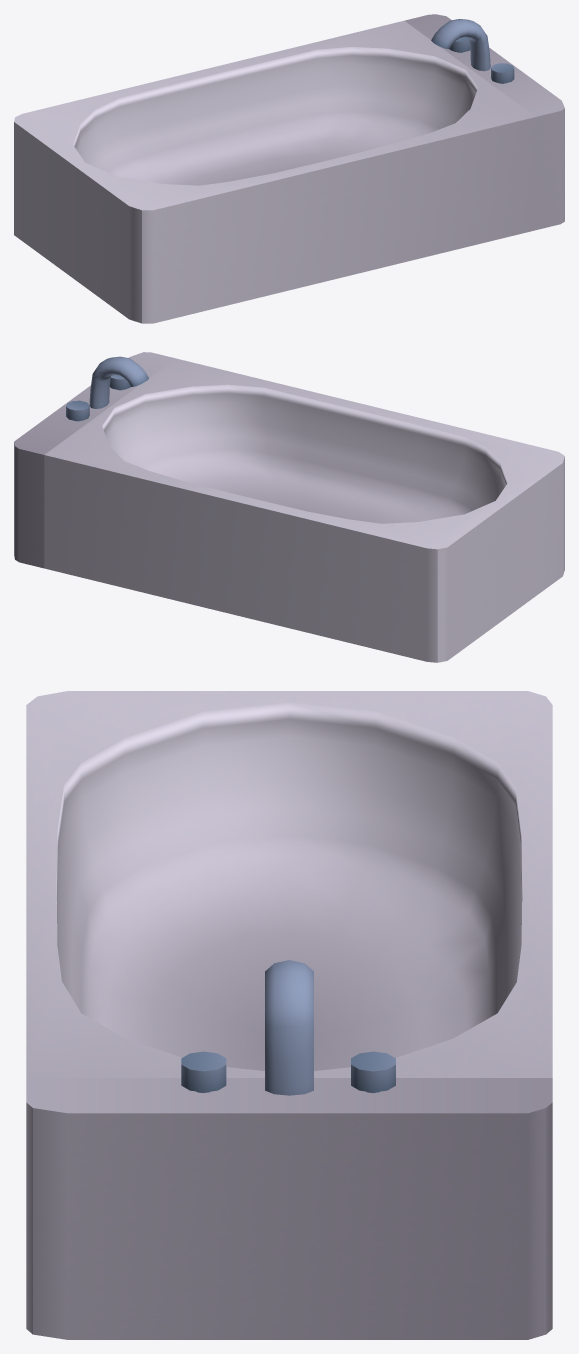
File: Bathtub.fbx
The picture shows the model from 3 angles, top to bottom: view 1: azimuth 30°, elevation 25°; view 2: azimuth 150°, elevation 25°; view 3: azimuth 270°, elevation 25°; orthographic projection. The views are drawn at different scales.
Parts seen in each view (by area): view 1: bathtub; view 2: bathtub; view 3: bathtub.
Part boxes in pixels (<box>): bathtub: <box>14,14,564,323</box>; bathtub: <box>14,352,564,662</box>; bathtub: <box>26,691,552,1339</box>.
Bounding box in the file's own units: 135 × 49.01 × 71.2.
